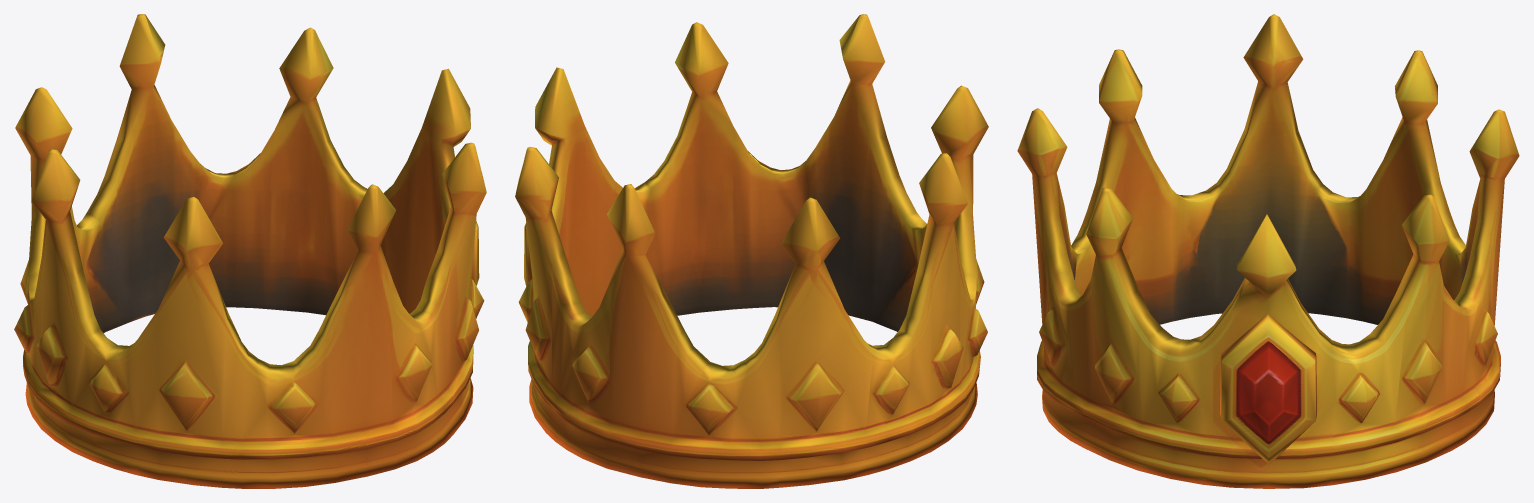
The model's file is crown-r10.glb.
The picture shows the model from 3 angles, left to right: view 1: azimuth 30°, elevation 25°; view 2: azimuth 150°, elevation 25°; view 3: azimuth 270°, elevation 25°; orthographic projection.
Parts seen in each view (by area): view 1: tripo_node_cce90432-bf5b-4d62-8d14-484f674b2646; view 2: tripo_node_cce90432-bf5b-4d62-8d14-484f674b2646; view 3: tripo_node_cce90432-bf5b-4d62-8d14-484f674b2646.
Boxes of the visible parts, left/top/right/bottom form: tripo_node_cce90432-bf5b-4d62-8d14-484f674b2646: left=14, top=14, right=486, bottom=488; tripo_node_cce90432-bf5b-4d62-8d14-484f674b2646: left=515, top=14, right=988, bottom=488; tripo_node_cce90432-bf5b-4d62-8d14-484f674b2646: left=1017, top=14, right=1519, bottom=488.
Bounding box in the file's own units: 0.9902 × 0.6348 × 0.998.
1 material, 1 textured.
